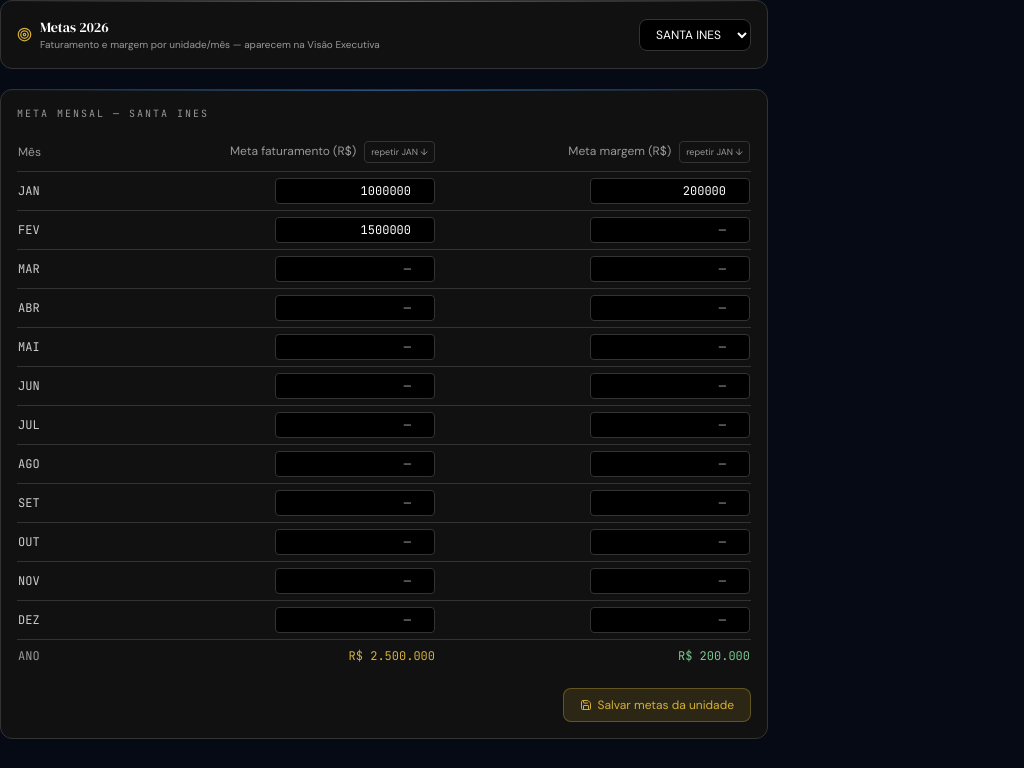
Test: MetasPage › com permissão: grid semeado da API e salvar manda 12 meses (vazio→null)
Check: the number field named "Meta de faturamento de JAN" holds "1000000", box [275,178,435,204]
Click the button "Salvar metas da unidade". click: (657, 705)
box: [563,688,751,722]
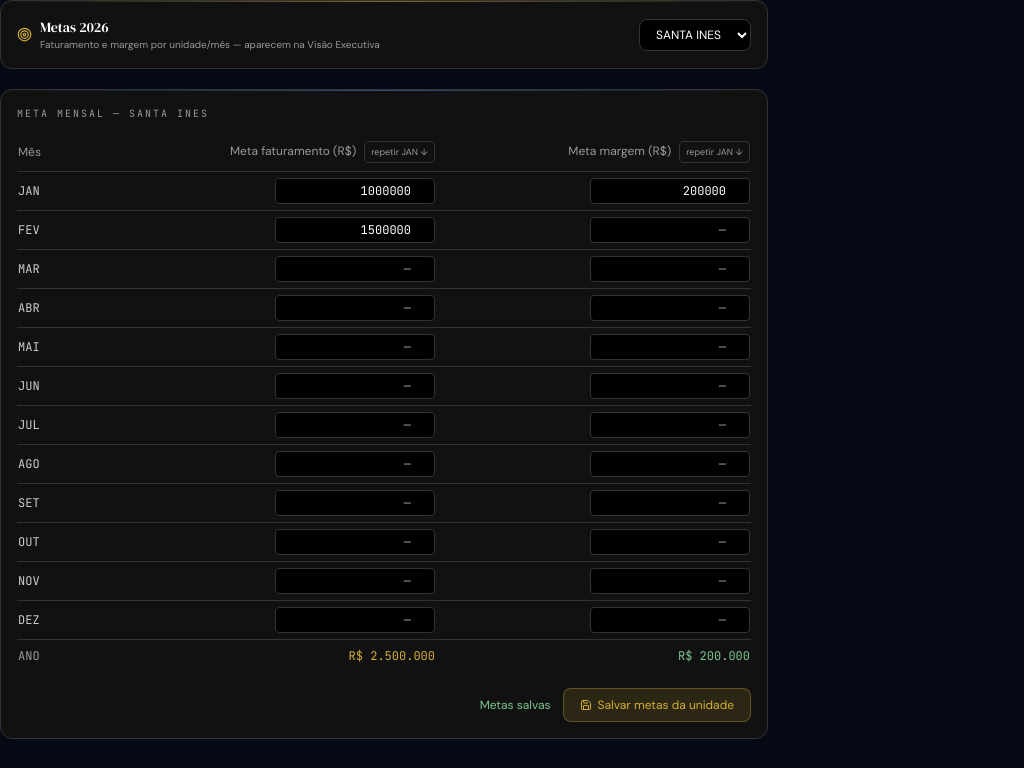
Check: the text "Metas salvas" is shown, box [480,697,551,713]
